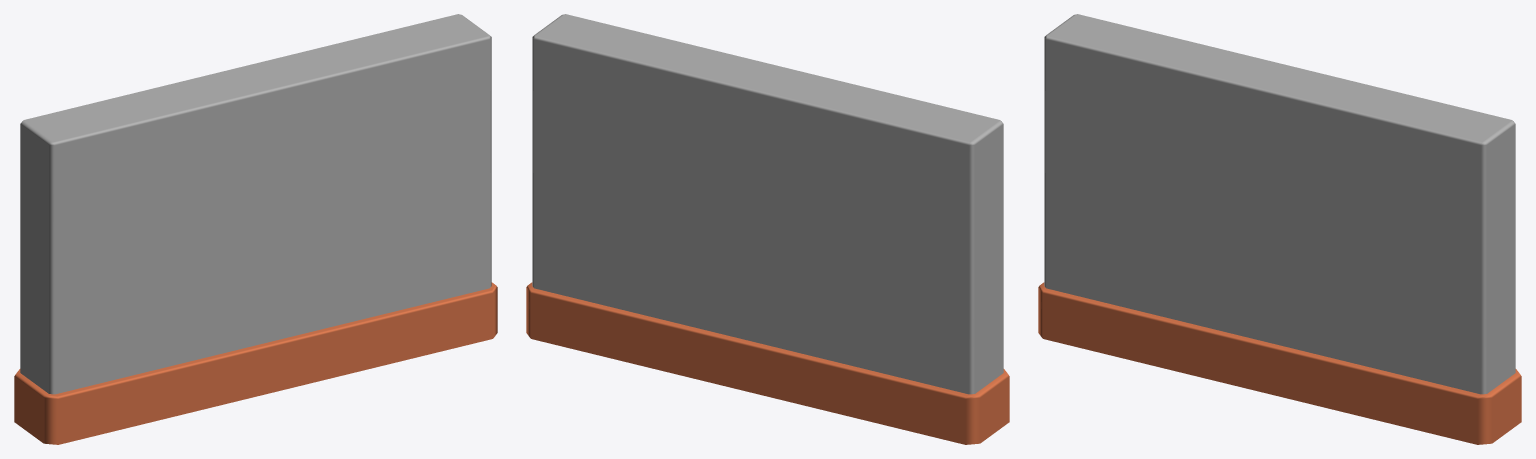
The model's file is Env5_Wall.fbx.
3 renders of one model, left to right at view 1: azimuth 30°, elevation 25°; view 2: azimuth 150°, elevation 25°; view 3: azimuth 330°, elevation 25°, orthographic.
Visible parts, largest first — view 1: Env5_Wall; view 2: Env5_Wall; view 3: Env5_Wall.
Boxes of the visible parts, x1,y1,x2,y2 form: Env5_Wall: (14,14,497,444); Env5_Wall: (526,14,1009,444); Env5_Wall: (1038,14,1521,444).
Bounding box in the file's own units: 313 × 198 × 47.13.
